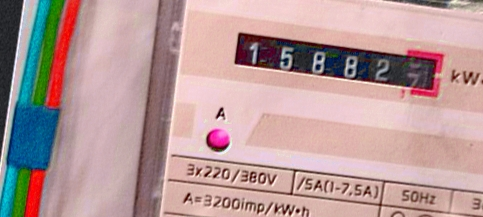1: (248, 36, 265, 66)
2: (374, 55, 394, 83)
5: (278, 42, 299, 74)
7: (406, 69, 422, 87)
8: (310, 47, 330, 77), (343, 51, 363, 81)
screen: (222, 14, 455, 106)
